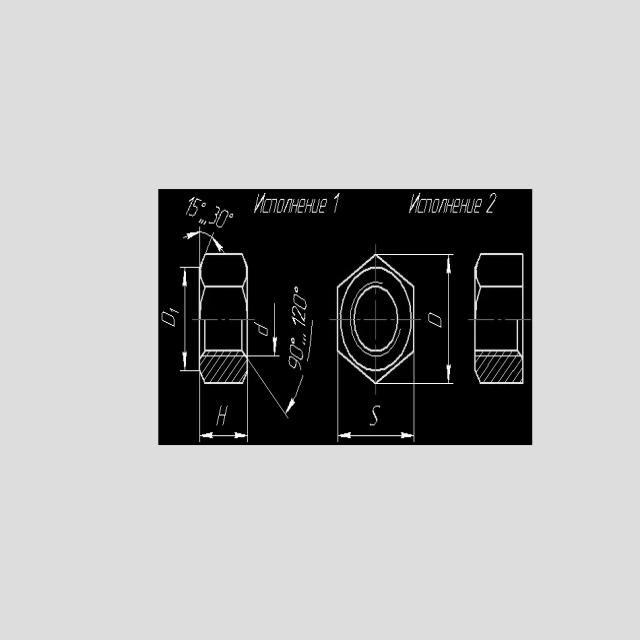marking_line: (249, 305, 315, 420), (416, 251, 454, 387), (337, 385, 416, 444), (197, 386, 250, 442), (179, 264, 199, 373), (249, 300, 281, 359), (182, 226, 225, 253)
numeric: (208, 204, 220, 225), (289, 342, 303, 360), (216, 209, 229, 228), (292, 306, 307, 322), (486, 193, 497, 214), (293, 294, 307, 309), (287, 356, 302, 370), (190, 198, 201, 217), (184, 196, 194, 216), (332, 192, 340, 214), (292, 316, 305, 326)
special_symbol: (293, 285, 299, 295), (202, 200, 206, 208), (229, 212, 233, 219)
